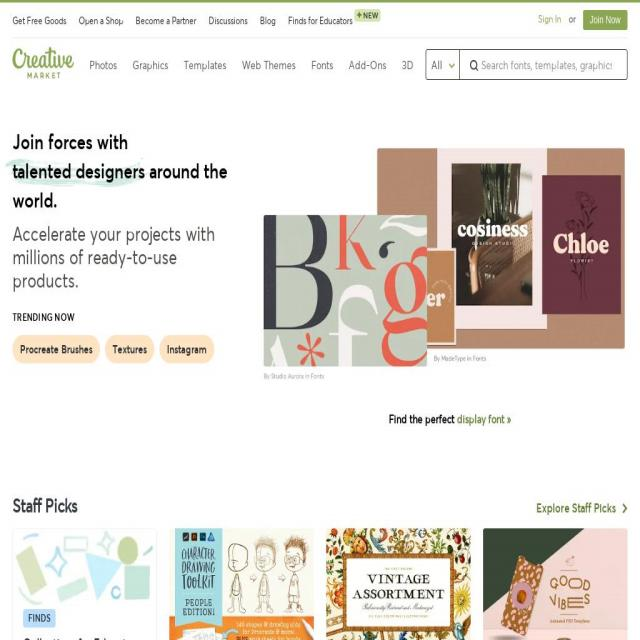login-option: (534, 8, 565, 30)
navigation-blocks: (6, 516, 640, 640)
navigation-links: (5, 0, 419, 85)
search: (425, 38, 639, 88)
sign-up-option: (588, 8, 632, 32)
